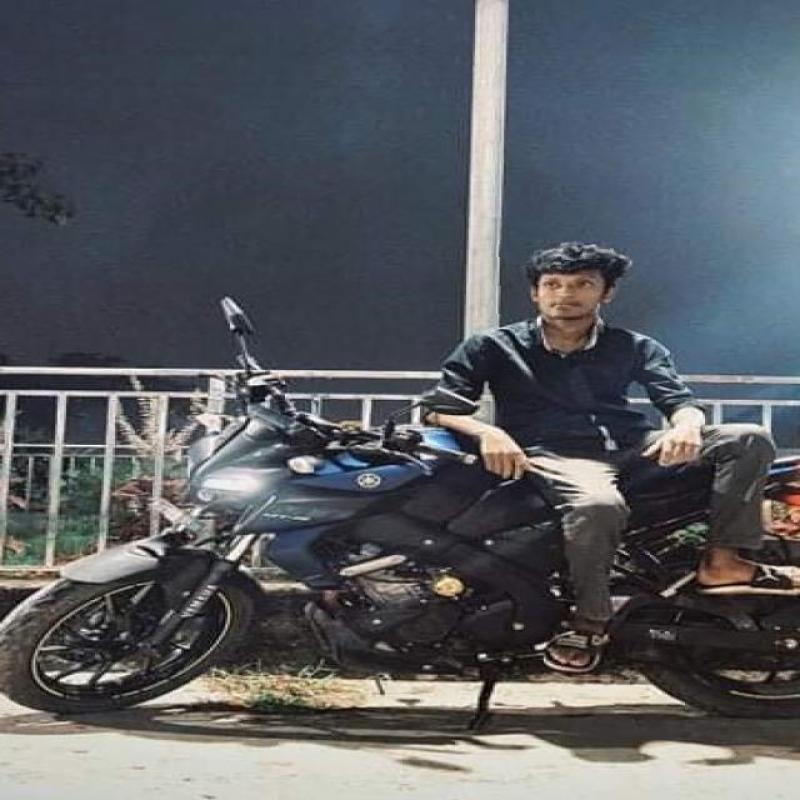nohelmet: (492, 241, 644, 328)
